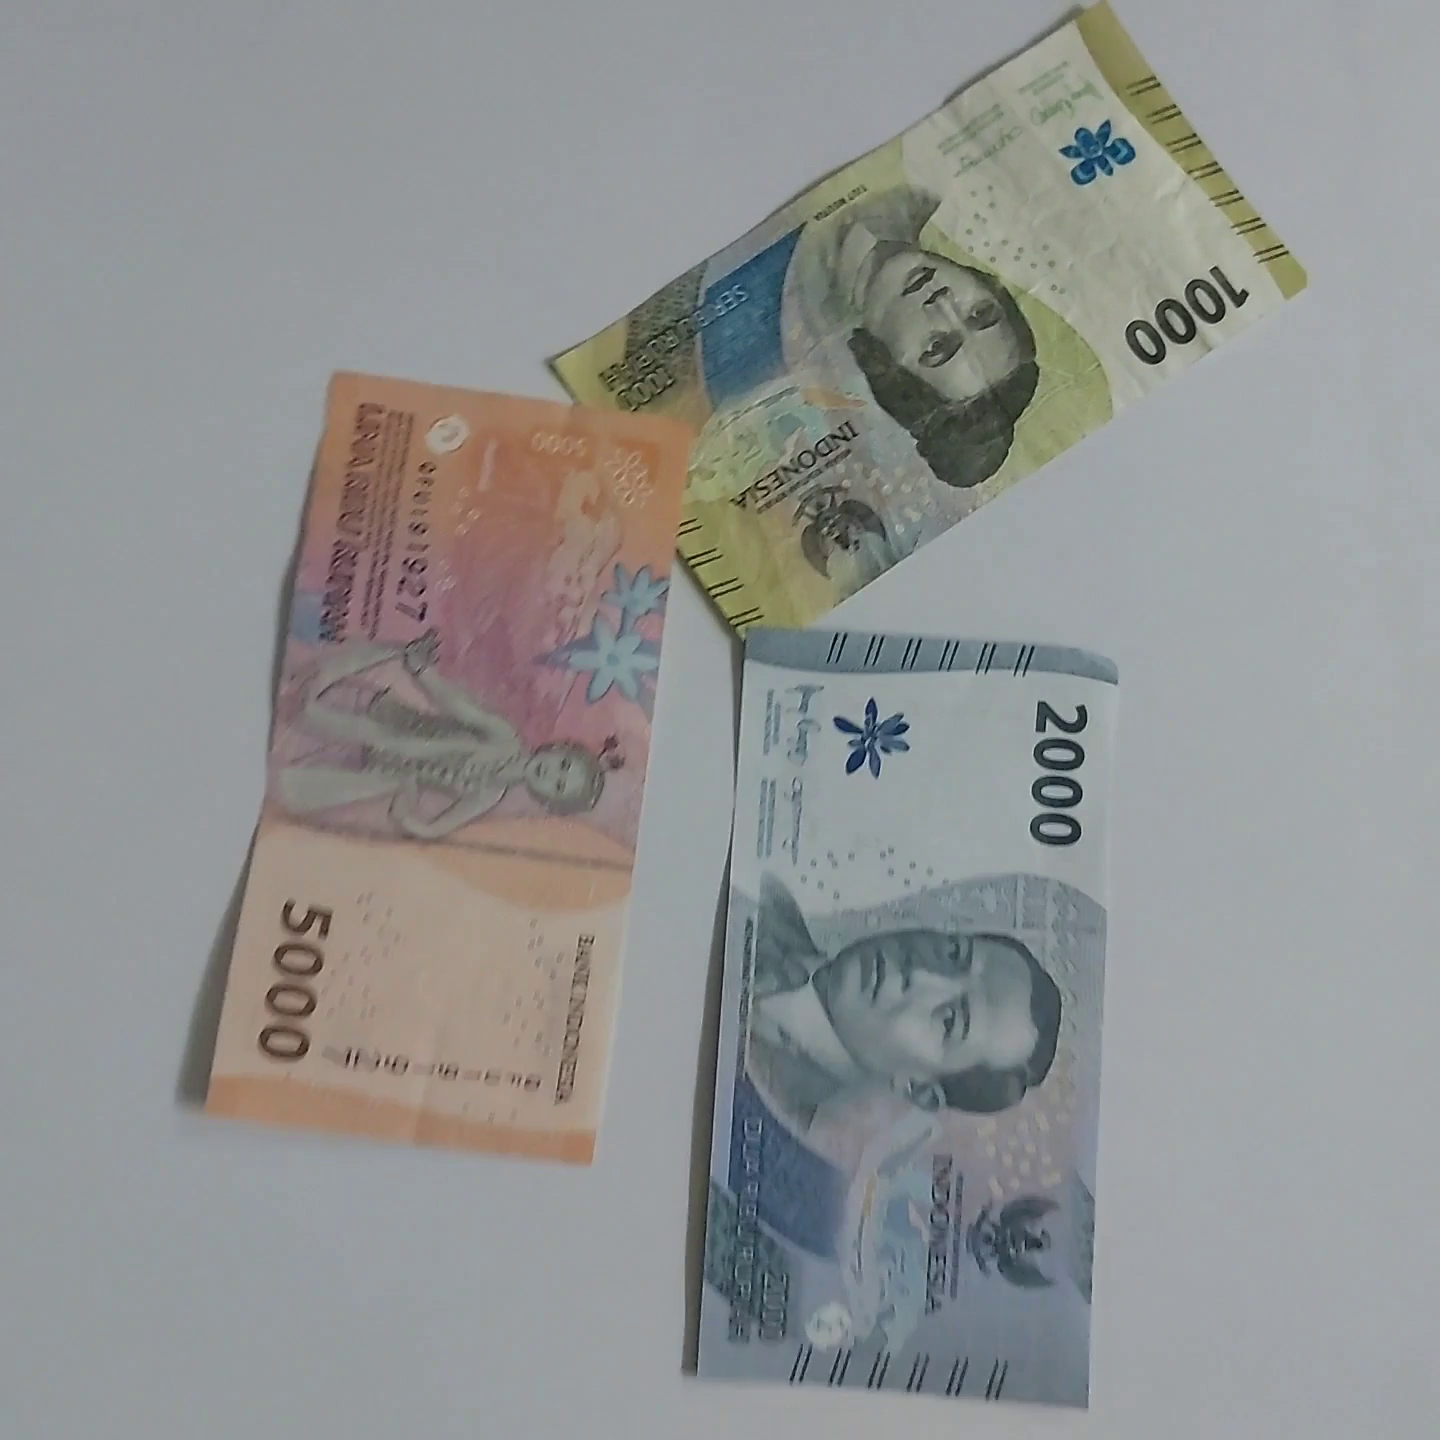1k: (526, 3, 1346, 657)
2k: (695, 587, 1097, 1437)
5k: (182, 311, 655, 1226)
